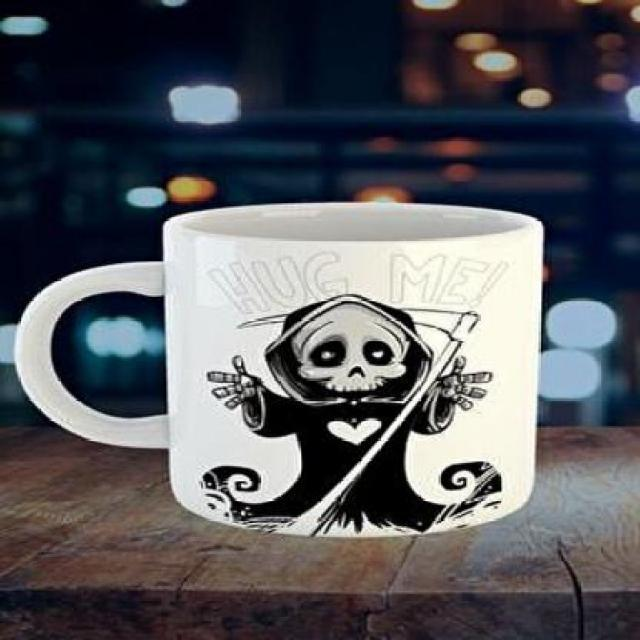taza: (84, 100, 593, 637)
